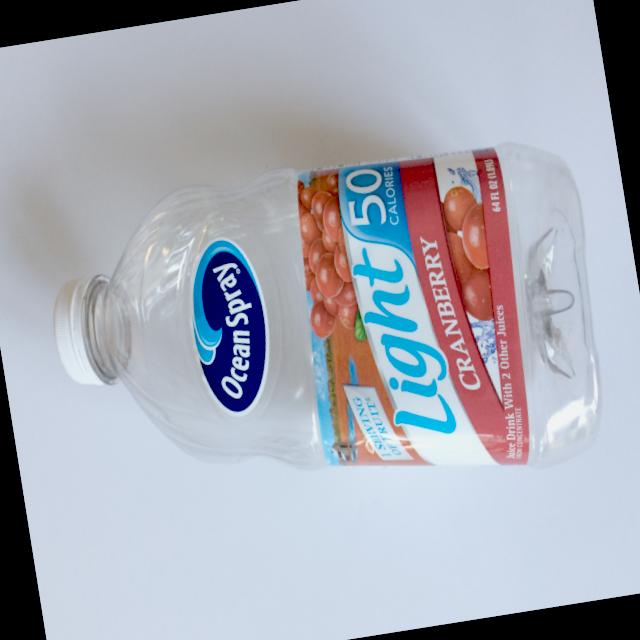Plastic: (23, 93, 632, 558)
